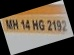character: (55, 18, 61, 31), (12, 18, 18, 30), (31, 18, 37, 30), (46, 19, 52, 31), (38, 19, 44, 30), (25, 19, 30, 31), (20, 18, 25, 29)
